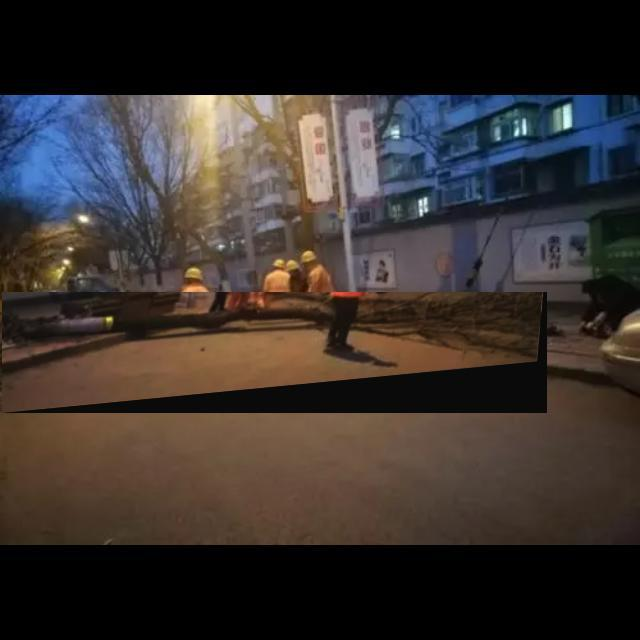fallen_tree: (2, 292, 548, 414)
